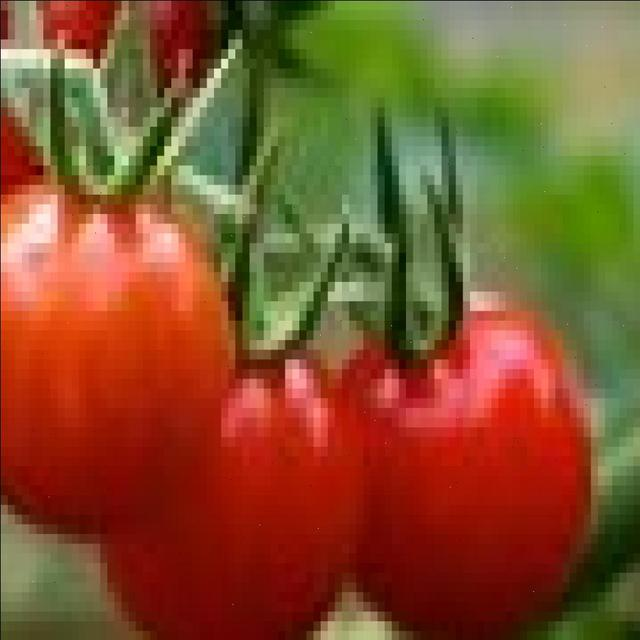Healthy Fruit: (71, 207, 313, 320)
